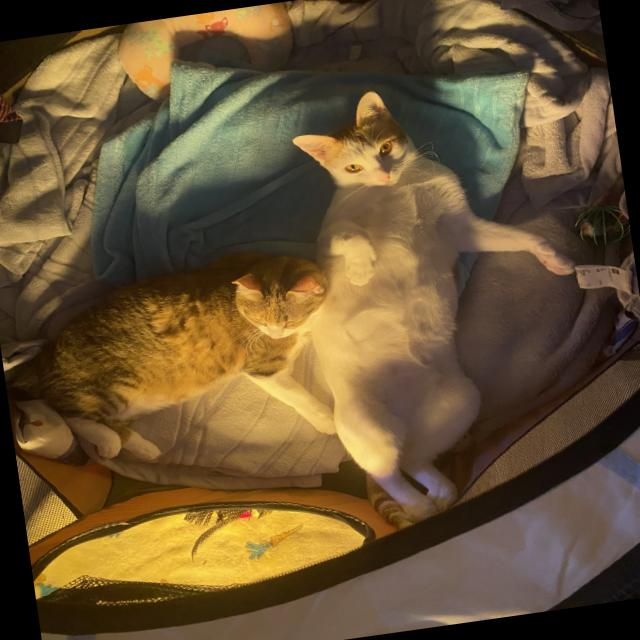cat1: (270, 61, 612, 536)
cat2: (0, 230, 354, 481)
